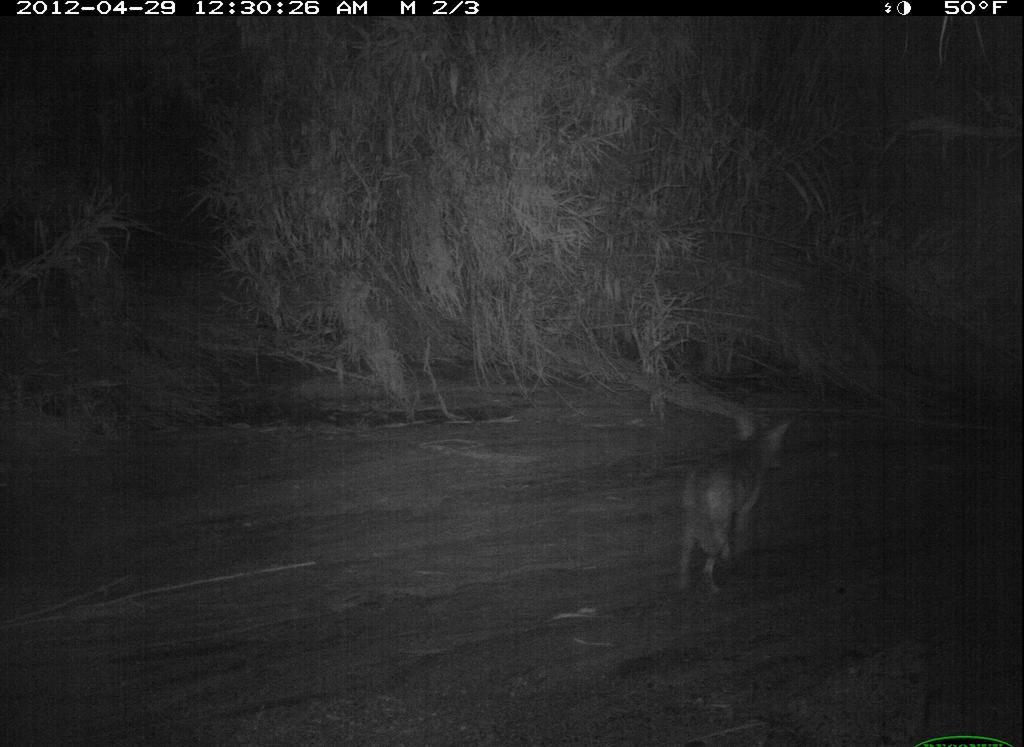coyote: (671, 392, 802, 601)
